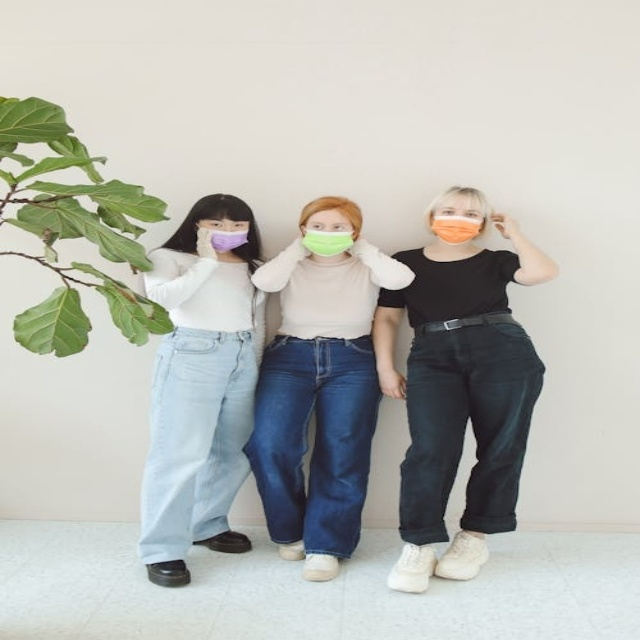Guantes: (192, 229, 220, 262)
Mascara: (430, 215, 484, 244), (301, 229, 355, 256), (203, 227, 249, 252)
Sin_gafas: (197, 218, 251, 231), (435, 207, 486, 219), (305, 218, 357, 227)
Sin_guantes: (488, 210, 524, 241)
